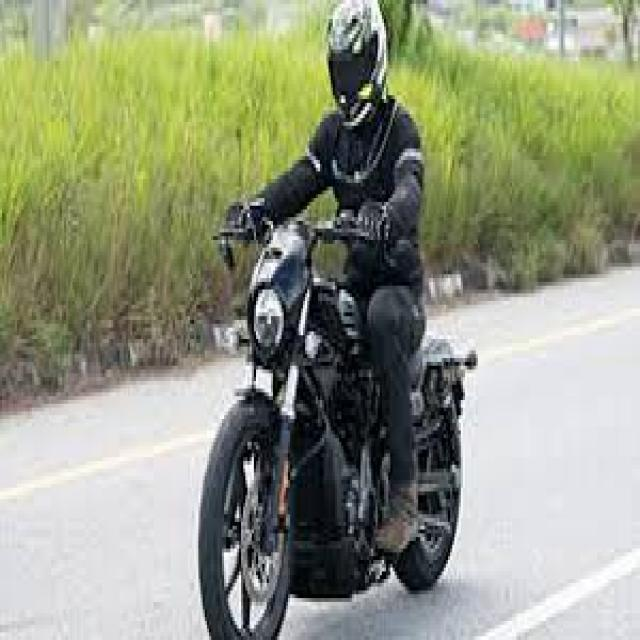Bike: (199, 199, 479, 640)
